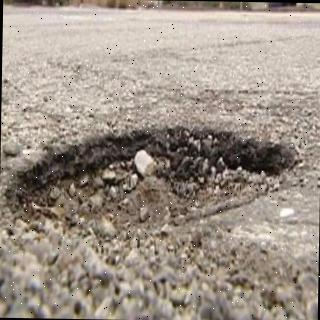pothole: (4, 125, 300, 237)
